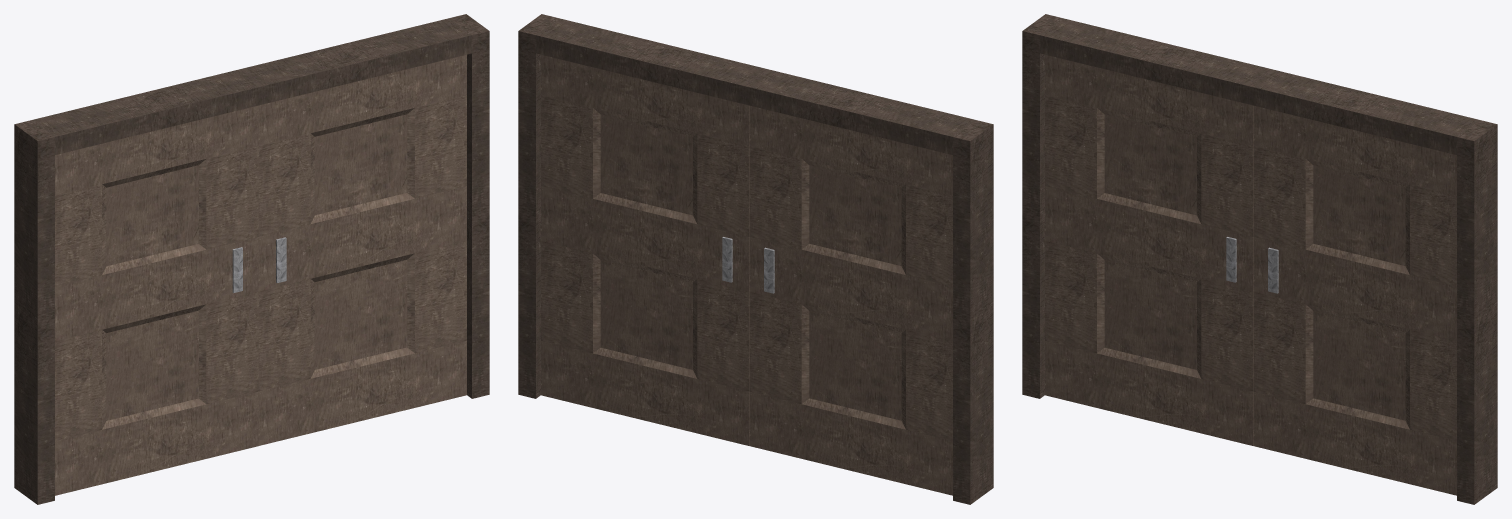
The model's file is ep5t-cua-go-doi.glb.
The picture shows the model from 3 angles, left to right: view 1: azimuth 30°, elevation 25°; view 2: azimuth 150°, elevation 25°; view 3: azimuth 330°, elevation 25°; orthographic projection.
Parts seen in each view (by area): view 1: ep5t-cua-go-doi; view 2: ep5t-cua-go-doi; view 3: ep5t-cua-go-doi.
Part boxes in pixels (box(x1,y1,x2,y2)): ep5t-cua-go-doi: box(14, 14, 489, 504); ep5t-cua-go-doi: box(518, 14, 993, 504); ep5t-cua-go-doi: box(1022, 14, 1497, 504).
Bounding box in the file's own units: 10.4 × 8 × 0.9242.
3 materials, 3 textured.
